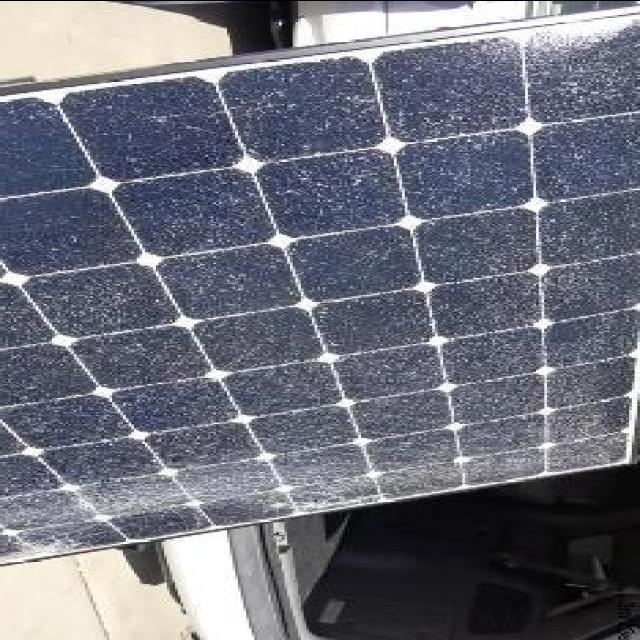cracked: (0, 9, 638, 564)
